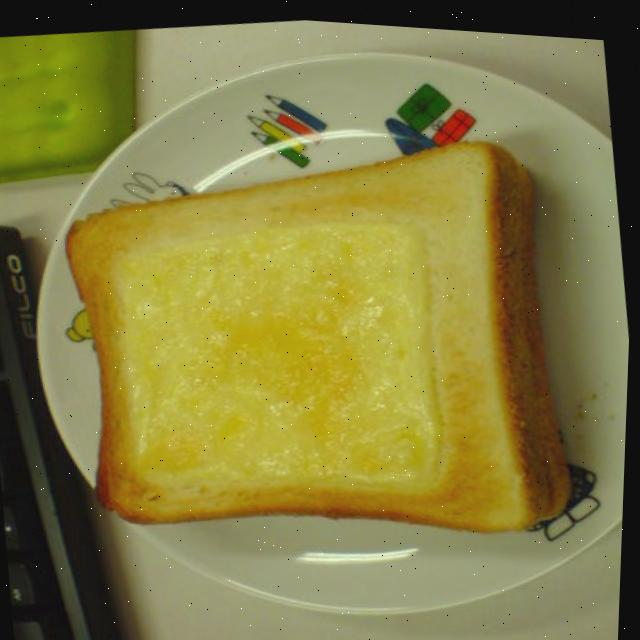面包点心: (43, 107, 593, 592)
